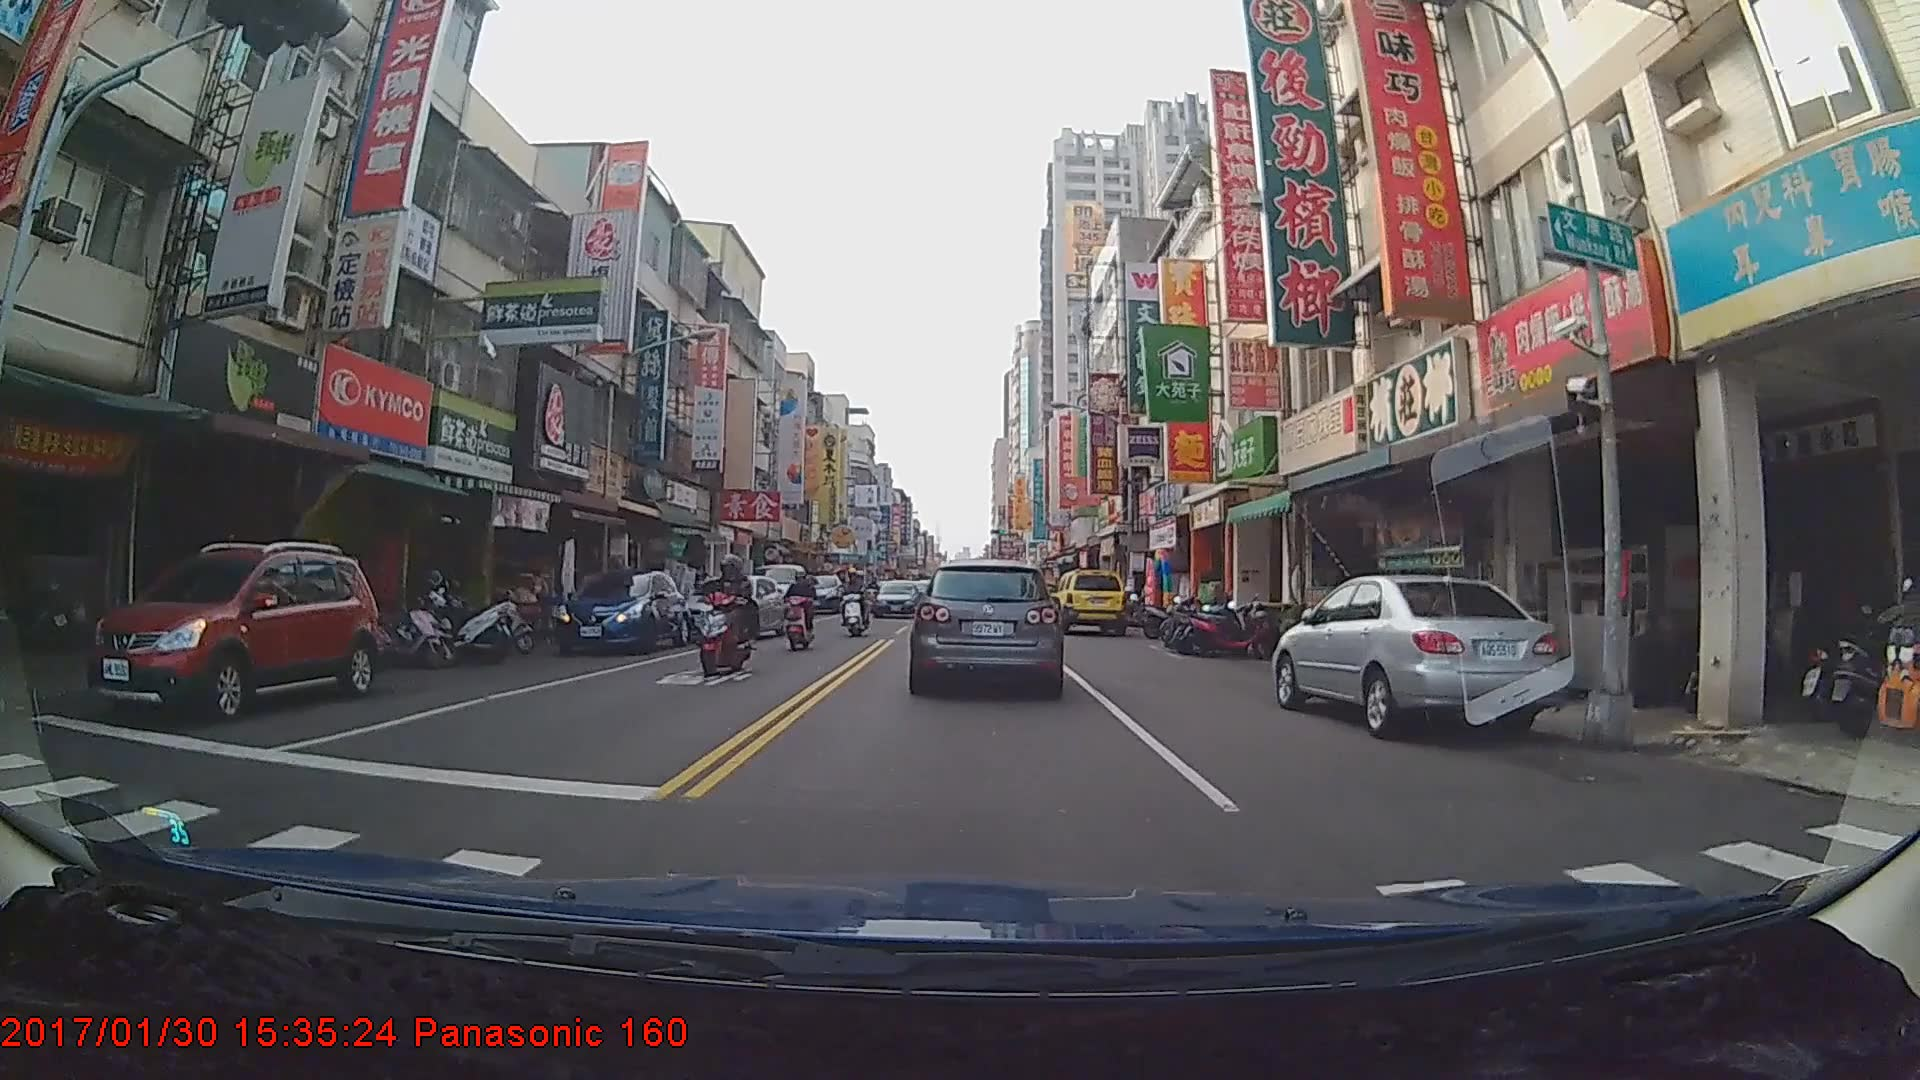rider: (695, 551, 760, 685), (781, 568, 818, 651), (837, 574, 871, 645)
vehicle: (83, 542, 373, 719), (1268, 571, 1564, 740), (908, 557, 1063, 695), (549, 569, 691, 654), (678, 574, 790, 640), (1052, 565, 1127, 633), (750, 564, 808, 620), (870, 579, 925, 618)
